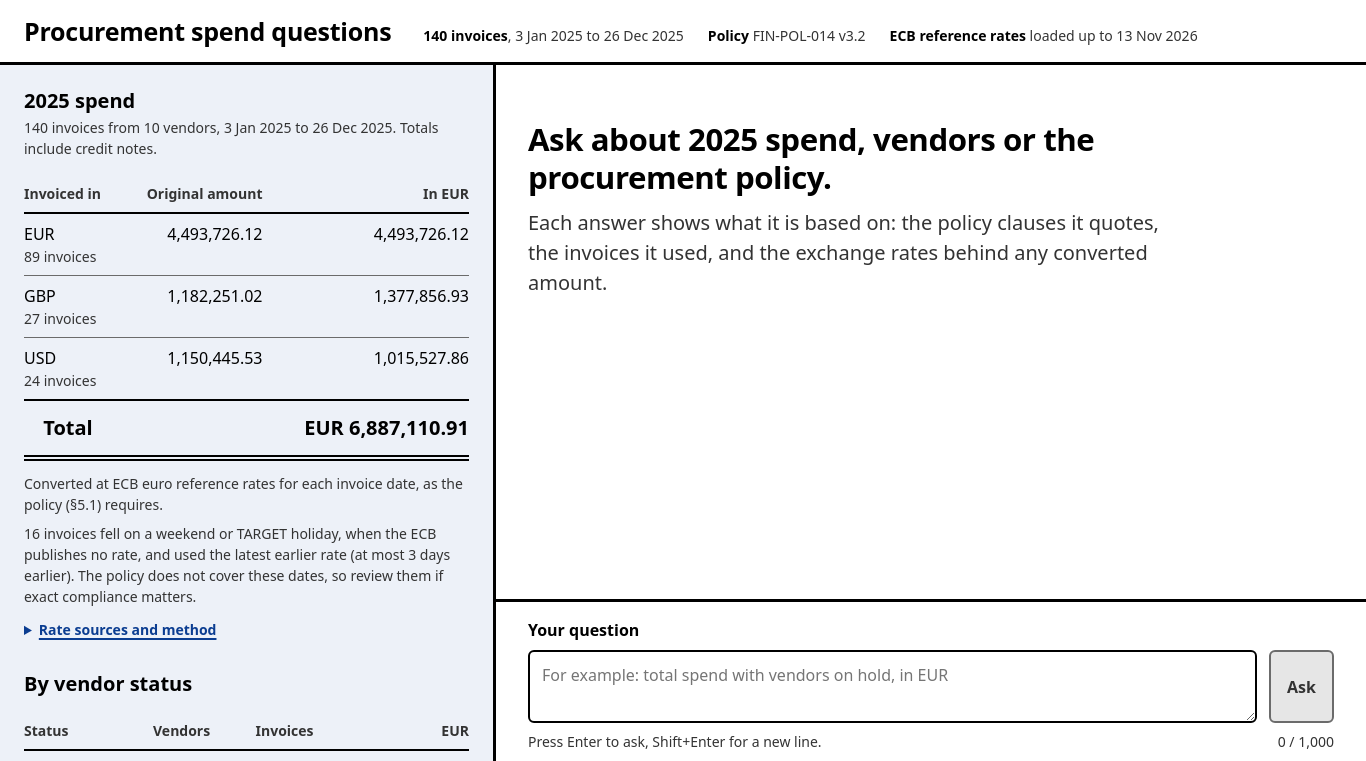
Test: asking questions › evidence tabs support arrow keys
Type "Total?" into the text box labelled "Your question".
click(893, 687); type("Total?")  # box left=528, top=650, right=1257, bottom=723
Then press Enter
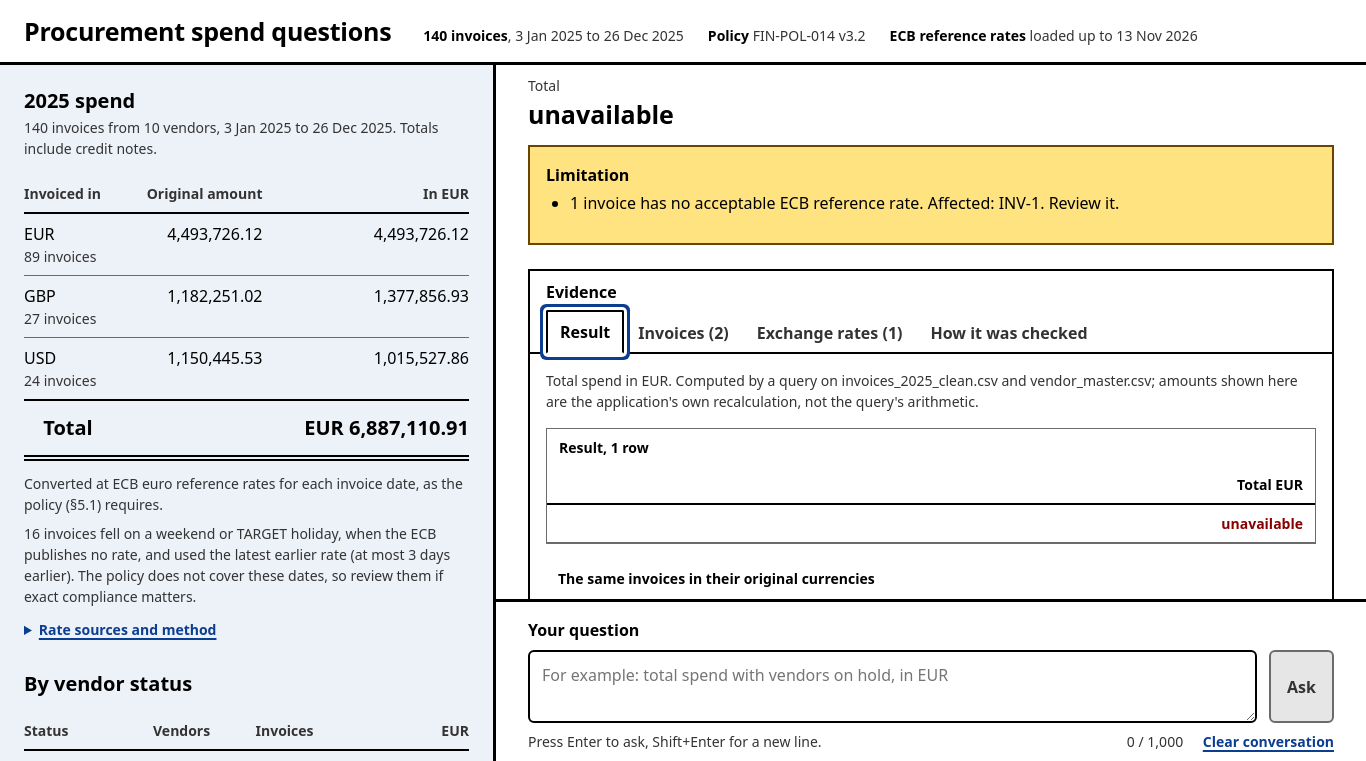
Press Arrowright
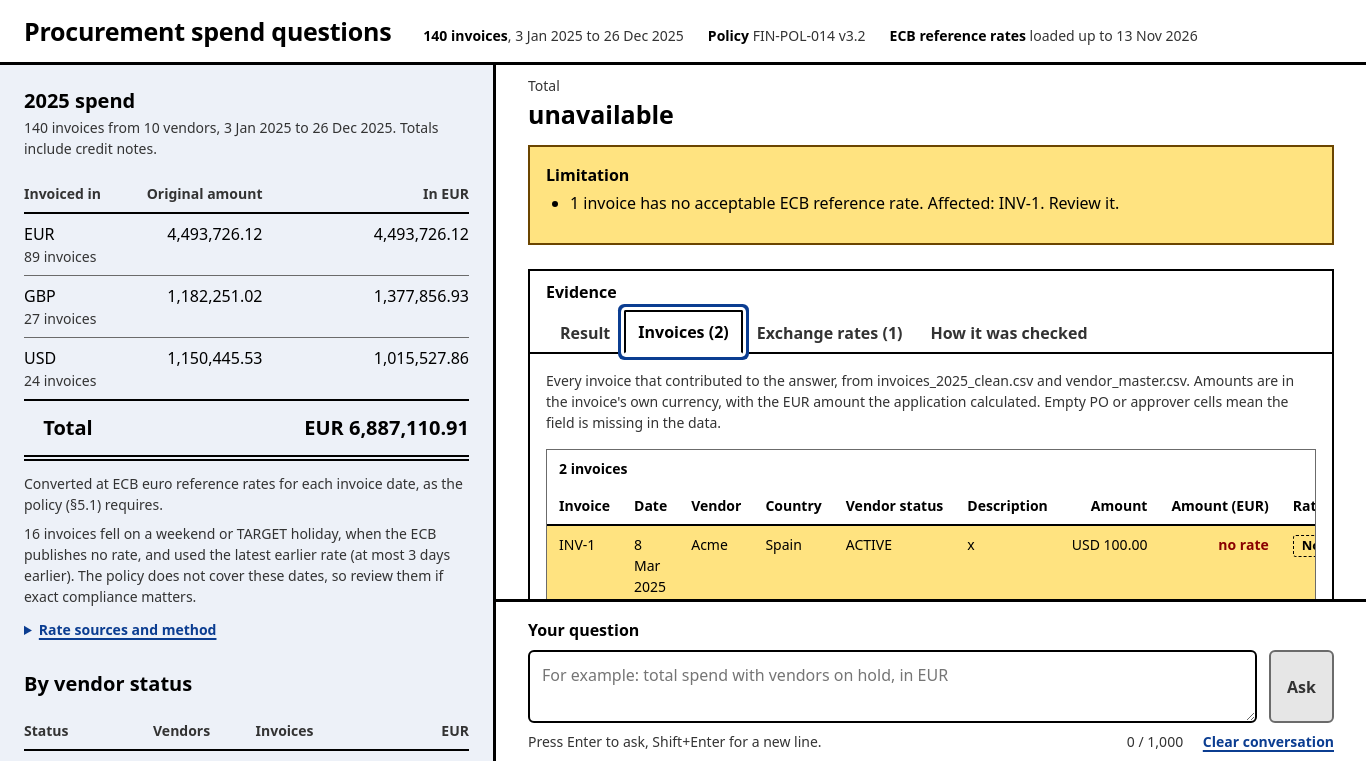
Result: the tab "Invoices (2)" is selected at left=624, top=310, right=743, bottom=354
